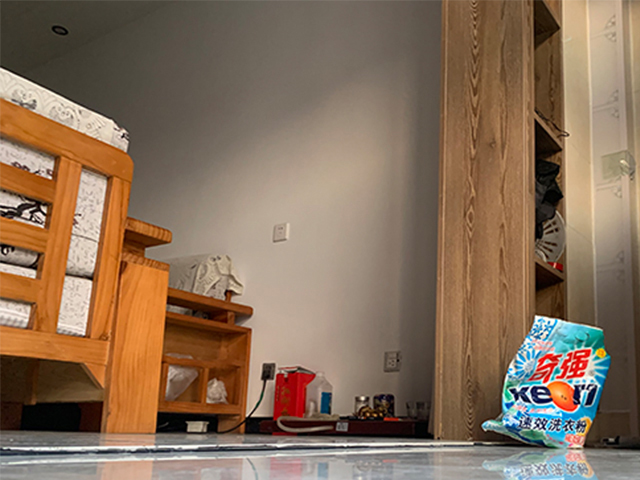sofa: (1, 68, 172, 435), (161, 251, 254, 436)
wire: (217, 372, 268, 437)
